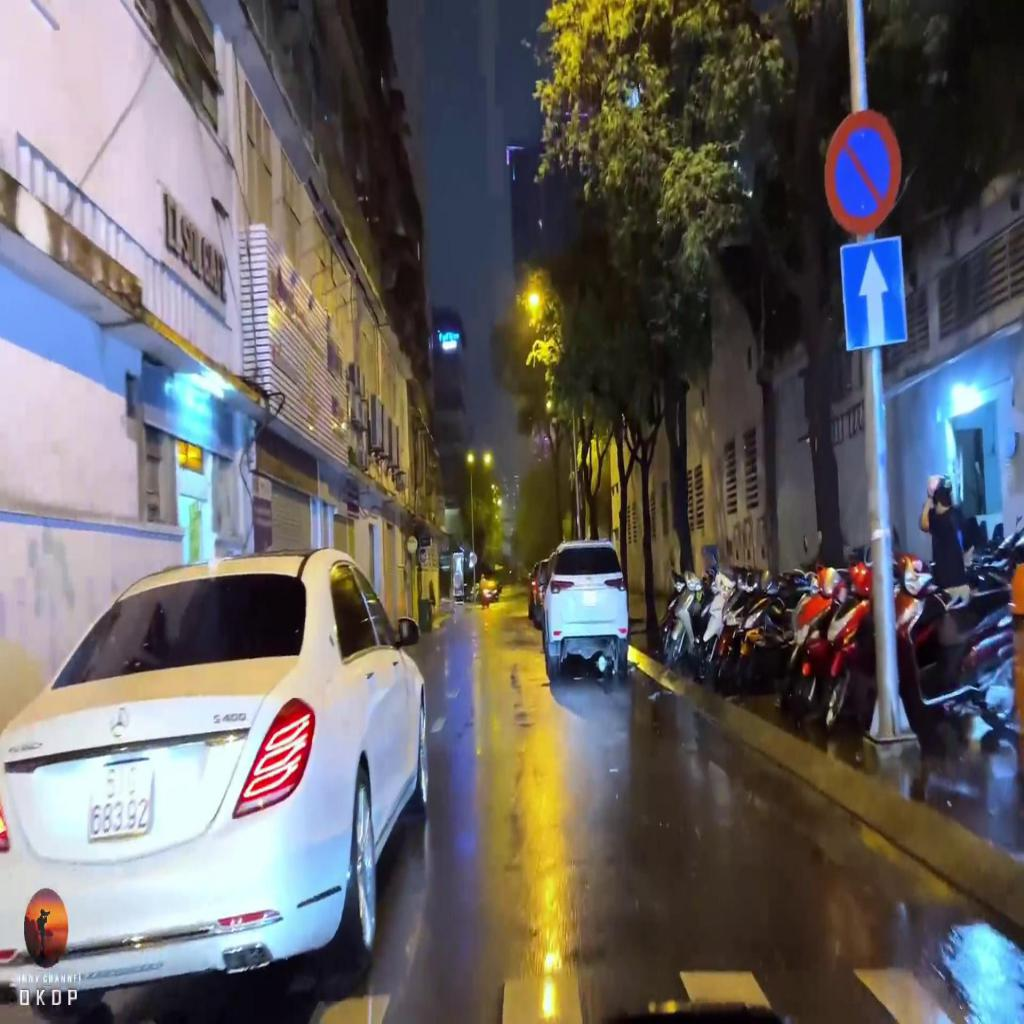cam_do_xe: (823, 108, 904, 237)
duong_mot_chieu: (840, 237, 908, 351)
